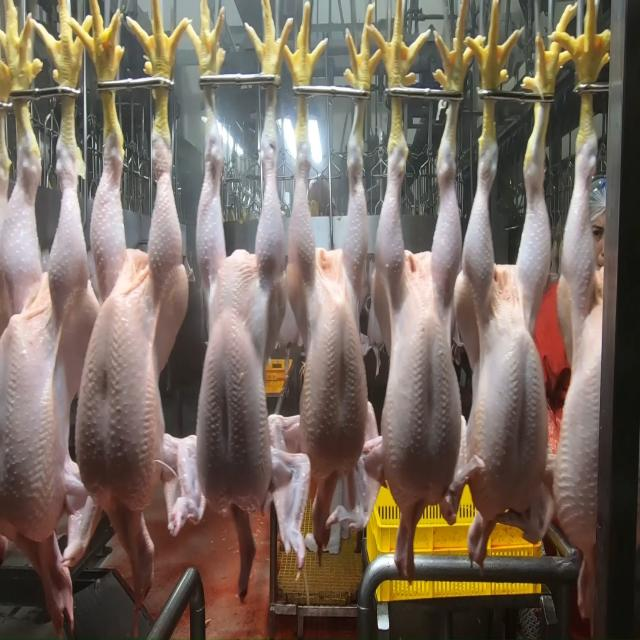chicken: (85, 128, 182, 508), (194, 116, 284, 511), (461, 138, 548, 526), (2, 128, 78, 546), (380, 144, 461, 518), (288, 128, 370, 475), (554, 140, 607, 572)
